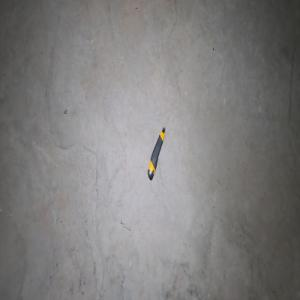Cutter: (147, 127, 165, 181)
